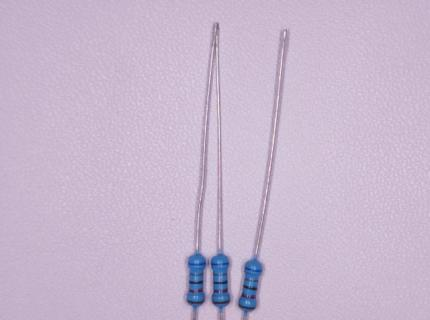Black band: (243, 285, 258, 291), (189, 280, 204, 285), (213, 281, 228, 285)
Blue band: (244, 266, 263, 273), (211, 262, 230, 266), (188, 262, 206, 266)
Brown band: (238, 303, 256, 311), (187, 299, 205, 304), (212, 300, 230, 304)
Grey band: (244, 278, 259, 283), (189, 272, 204, 276), (213, 273, 228, 277)
Red band: (241, 293, 256, 300), (189, 288, 204, 293), (214, 289, 229, 293)
